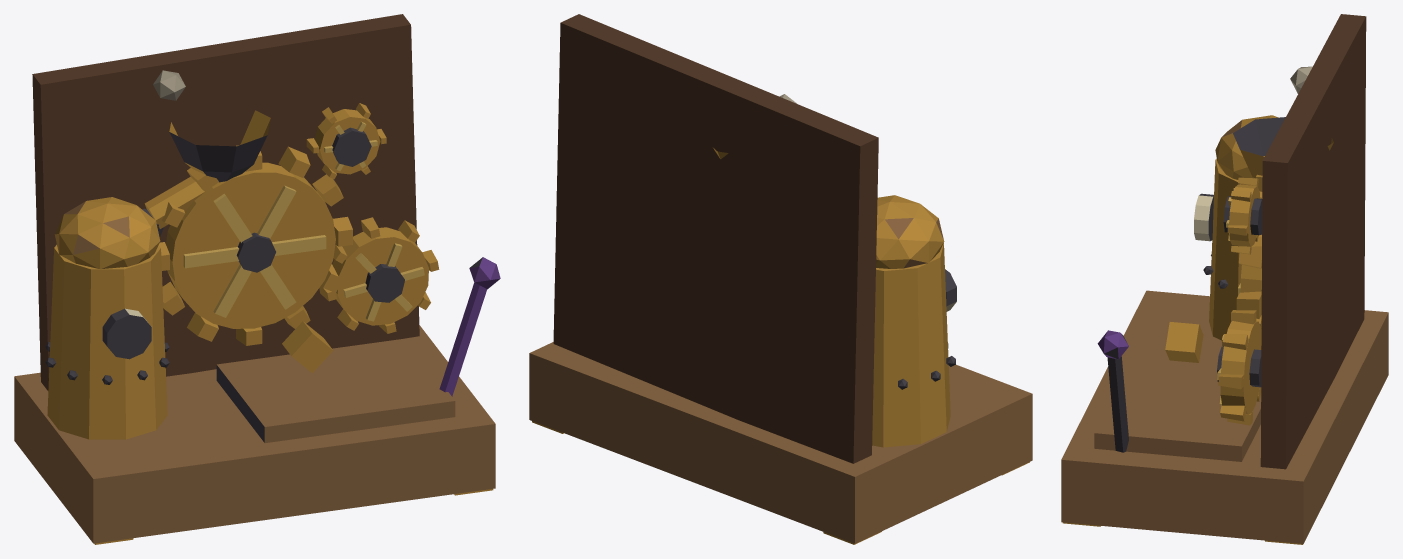
Rendered from machine.glb.
3 renders of one model, left to right at view 1: azimuth 30°, elevation 25°; view 2: azimuth 150°, elevation 25°; view 3: azimuth 270°, elevation 25°, orthographic. The views are drawn at different scales.
Visible parts, largest first — view 1: Base.001, GearBig.001, GearSmall.001, Pipe.001, GearTiny.001, Lever.001, Cam.001, Indicator.001; view 2: Base.001; view 3: Base.001, GearSmall.001, GearTiny.001, Lever.001, Pipe.001, GearBig.001, Cam.001.
Boxes of the visible parts, x1,y1,x2,y2 form: Base.001: (14,14,495,544); GearBig.001: (159,145,352,345); GearSmall.001: (319,217,439,333); Pipe.001: (142,110,270,237); GearTiny.001: (306,103,386,179); Lever.001: (439,257,500,396); Cam.001: (282,321,333,372); Indicator.001: (153,70,185,100); Base.001: (529,14,1032,544); Base.001: (1061,14,1388,544); GearSmall.001: (1217,310,1261,425); GearTiny.001: (1223,177,1262,254); Lever.001: (1097,330,1128,452); Pipe.001: (1233,117,1333,178); GearBig.001: (1236,174,1262,318); Cam.001: (1165,322,1203,362).
Size of the model in its own units: 2.1 by 1.91 by 1.52.
